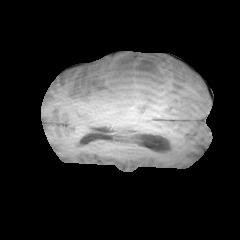glioma: (96, 54, 184, 111)
